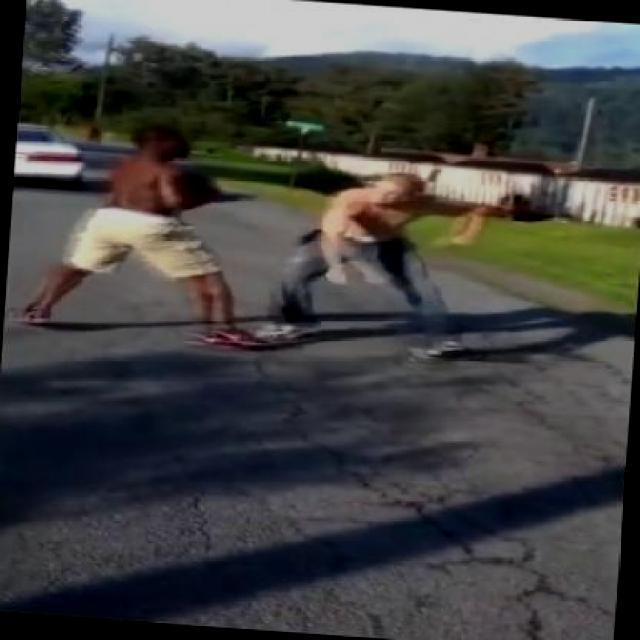fight: (88, 120, 500, 351)
